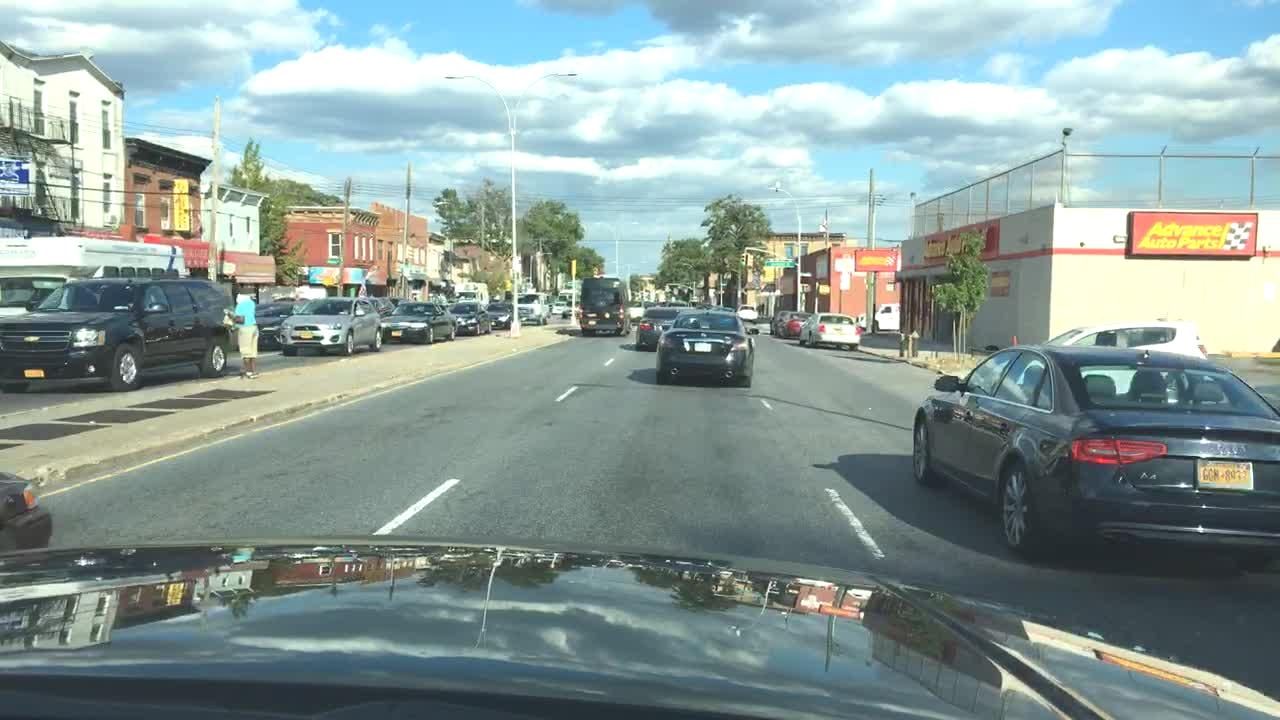Audi: (1201, 429, 1253, 462)
chevrolet: (22, 334, 43, 345)
